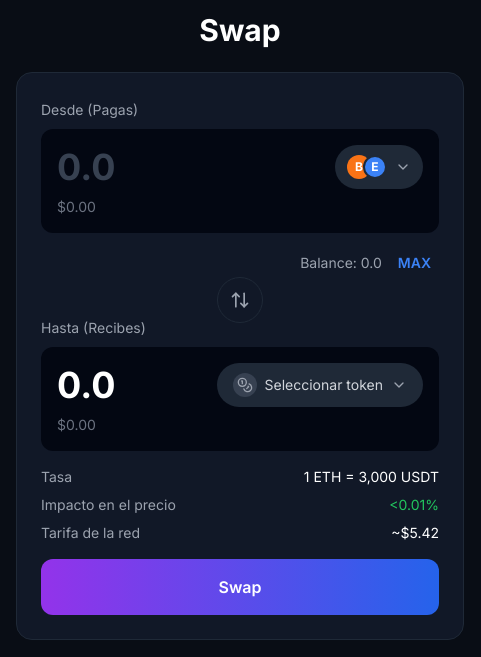
Scenario: SwapInterface › updates the "to" amount when "from" amount is changed
// Simulate user typing a number
In the field named "amount to pay": point(196, 167) [57, 147, 335, 187], type "10"
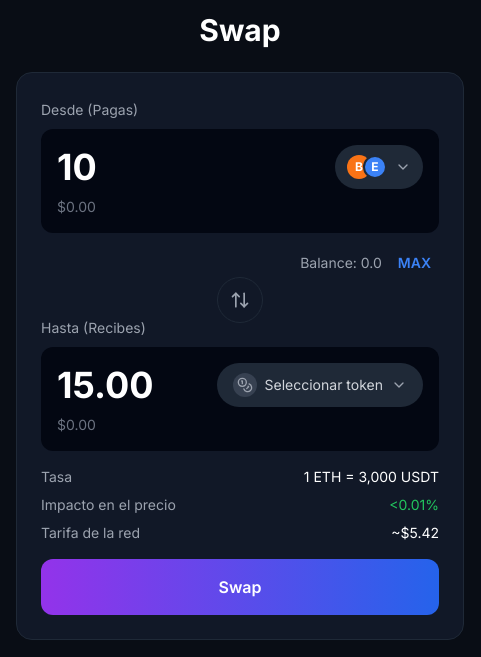
Expected: the text "15.00" is shown, [57, 365, 154, 405]
